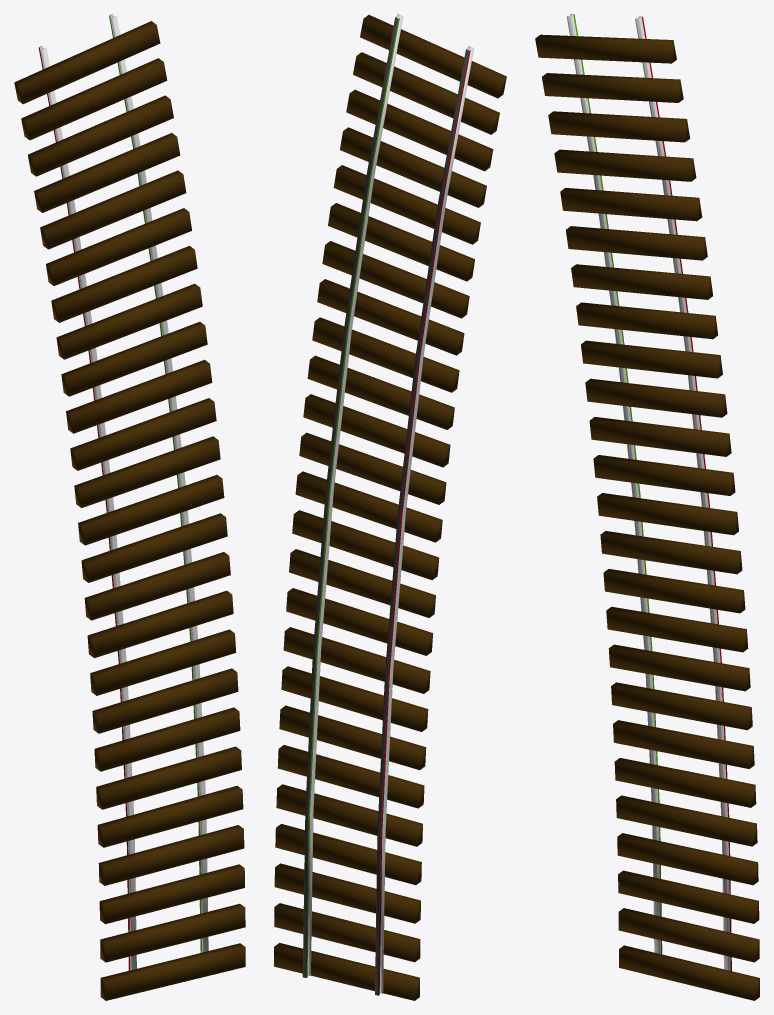
File: Rails_20m_11_25d.fbx
The picture shows the model from 3 angles, left to right: view 1: azimuth 30°, elevation 25°; view 2: azimuth 150°, elevation 25°; view 3: azimuth 330°, elevation 25°; orthographic projection. The views are drawn at different scales.
Parts seen in each view (by area): view 1: LP_Rails_20m_11_25d; view 2: LP_Rails_20m_11_25d; view 3: LP_Rails_20m_11_25d.
Boxes of the visible parts, x1,y1,x2,y2 form: LP_Rails_20m_11_25d: (14, 14, 245, 1000); LP_Rails_20m_11_25d: (274, 14, 506, 1000); LP_Rails_20m_11_25d: (535, 14, 759, 1000).
Bounding box in the file's own units: 4.85 × 20.03 × 0.34.
